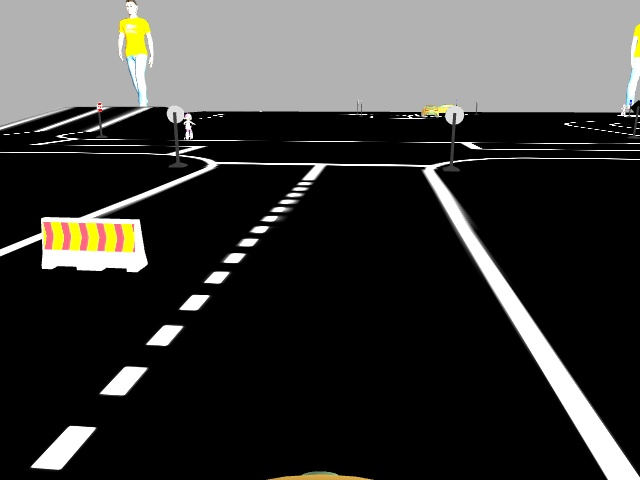ClosedRoadStand: (41, 217, 143, 267)
